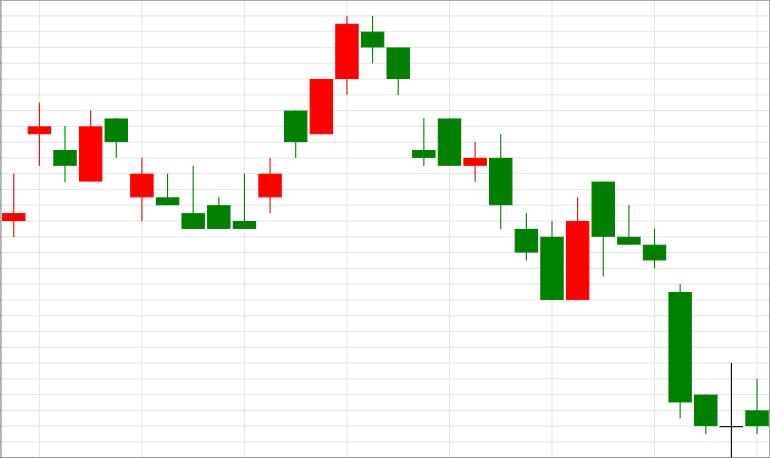bullish_engulfing_rise: (361, 14, 589, 300)
